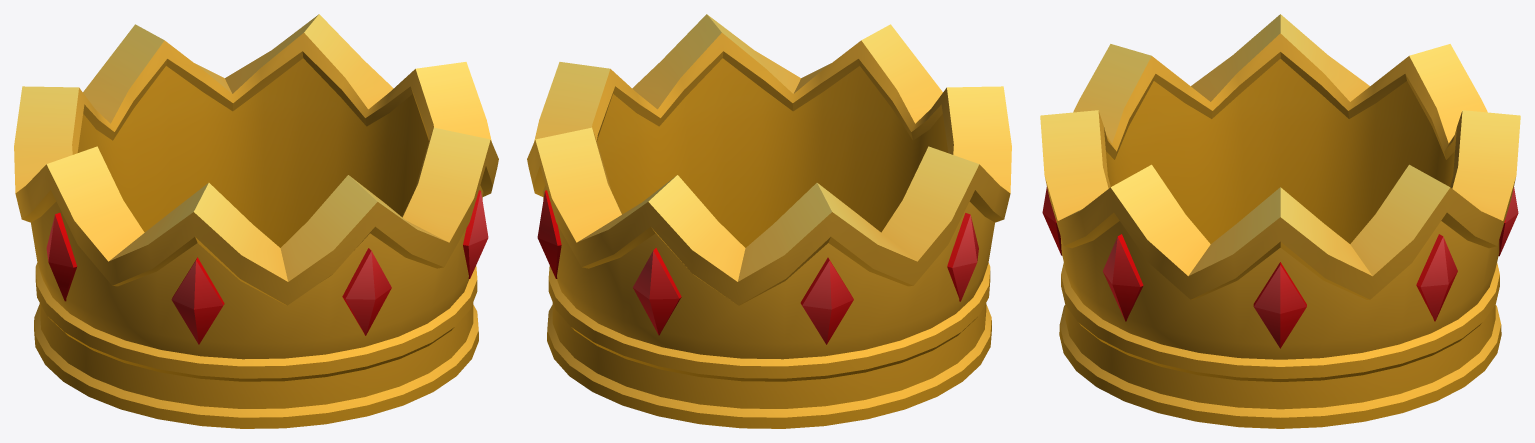
File: Crown.fbx
The picture shows the model from 3 angles, left to right: view 1: azimuth 30°, elevation 25°; view 2: azimuth 150°, elevation 25°; view 3: azimuth 270°, elevation 25°; orthographic projection.
Parts seen in each view (by area): view 1: Crown; view 2: Crown; view 3: Crown.
Part boxes in pixels (bbox=[...]): Crown: bbox=[14, 14, 498, 428]; Crown: bbox=[527, 14, 1011, 428]; Crown: bbox=[1040, 14, 1520, 428].
Size of the model in its own units: 0.4197 by 0.2211 by 0.4197.
